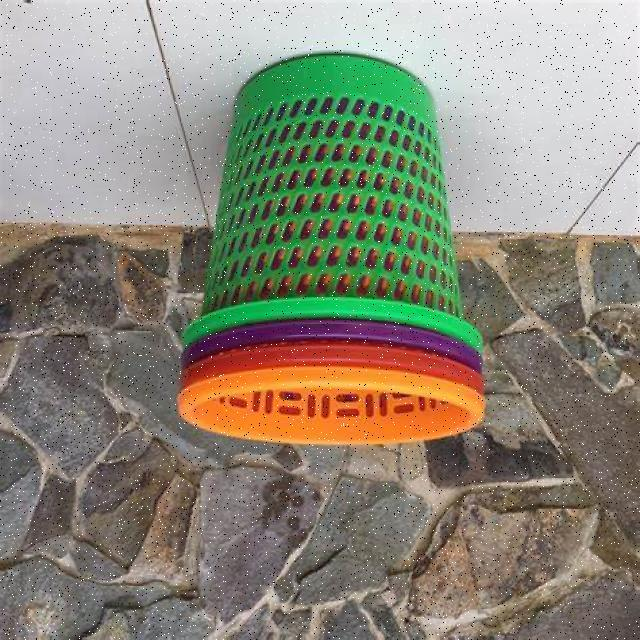garbage container: (131, 44, 577, 489)
